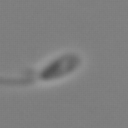normal: (1, 73, 38, 92)
